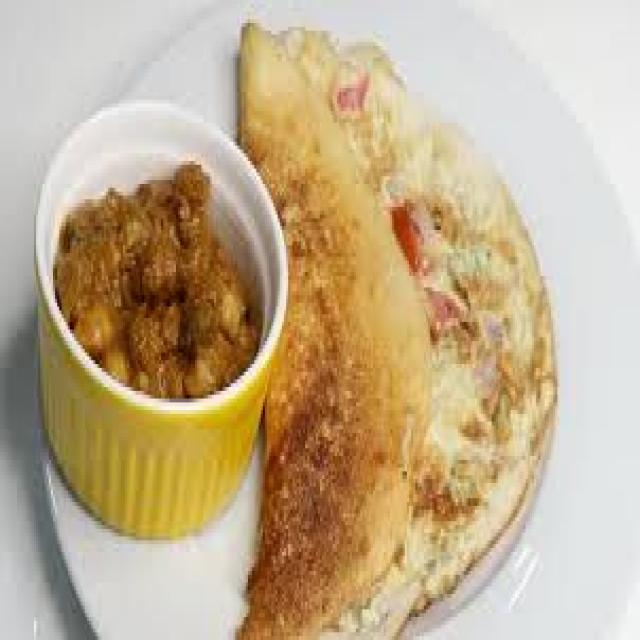DOSA: (242, 24, 559, 636)
